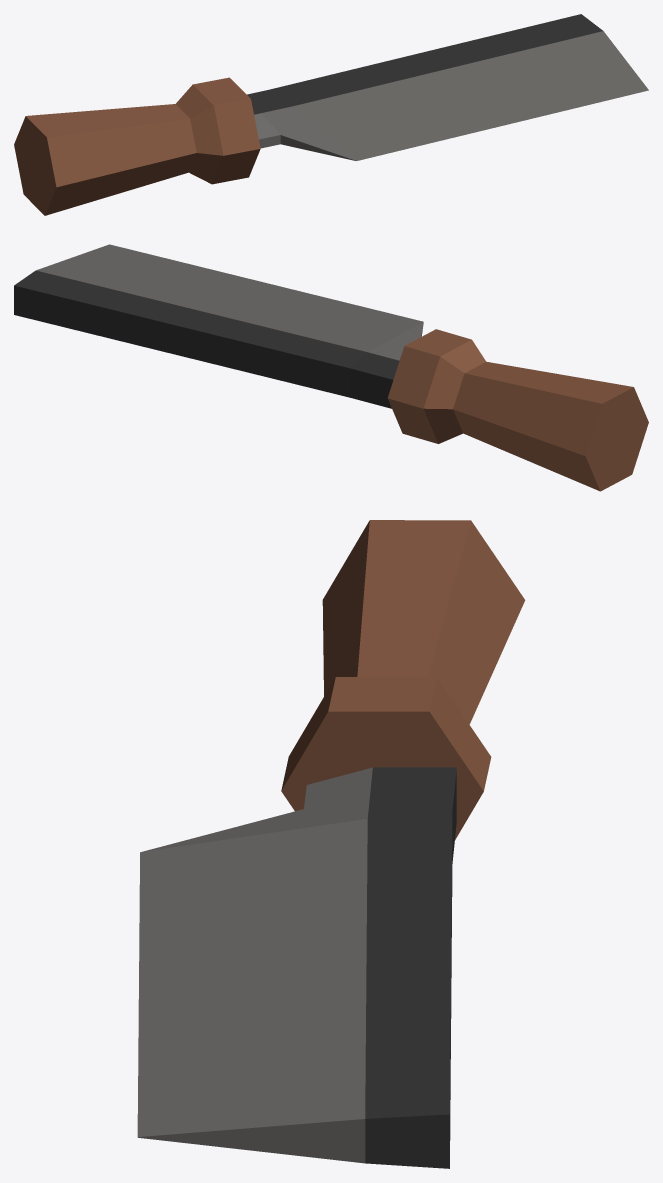
The model's file is knife_axe.fbx.
The picture shows the model from 3 angles, top to bottom: view 1: azimuth 30°, elevation 25°; view 2: azimuth 150°, elevation 25°; view 3: azimuth 270°, elevation 25°; orthographic projection. The views are drawn at different scales.
Parts seen in each view (by area): view 1: knife_ax; view 2: knife_ax; view 3: knife_ax.
Part boxes in pixels (x1,y1,x2,y2): knife_ax: (14, 14, 648, 215); knife_ax: (14, 244, 648, 491); knife_ax: (137, 520, 525, 1168).
Bounding box in the file's own units: 35.55 × 5.05 × 10.7.
